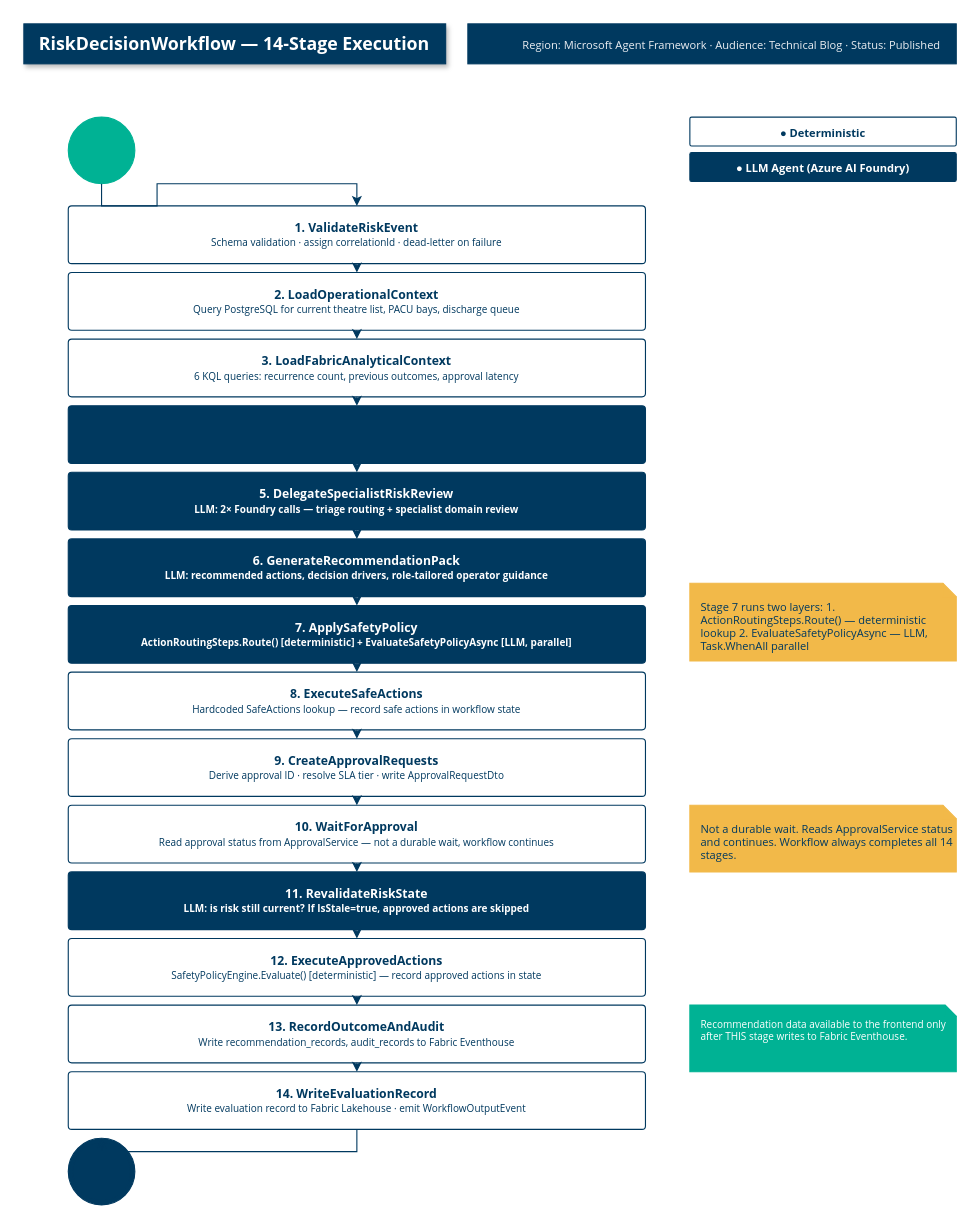
Some shapes in this 976 by 1224 pixel diagram are drawn without their labels. The shapes that lost their labels are listed below. From the top down, each one's centre as x and y in pixels, then its label:
At (x=101, y=150): "Start".
At (x=356, y=434): "4. ClassifyRisk LLM: risk level, rationale, contributing factor weights".
At (x=101, y=1171): "End".
